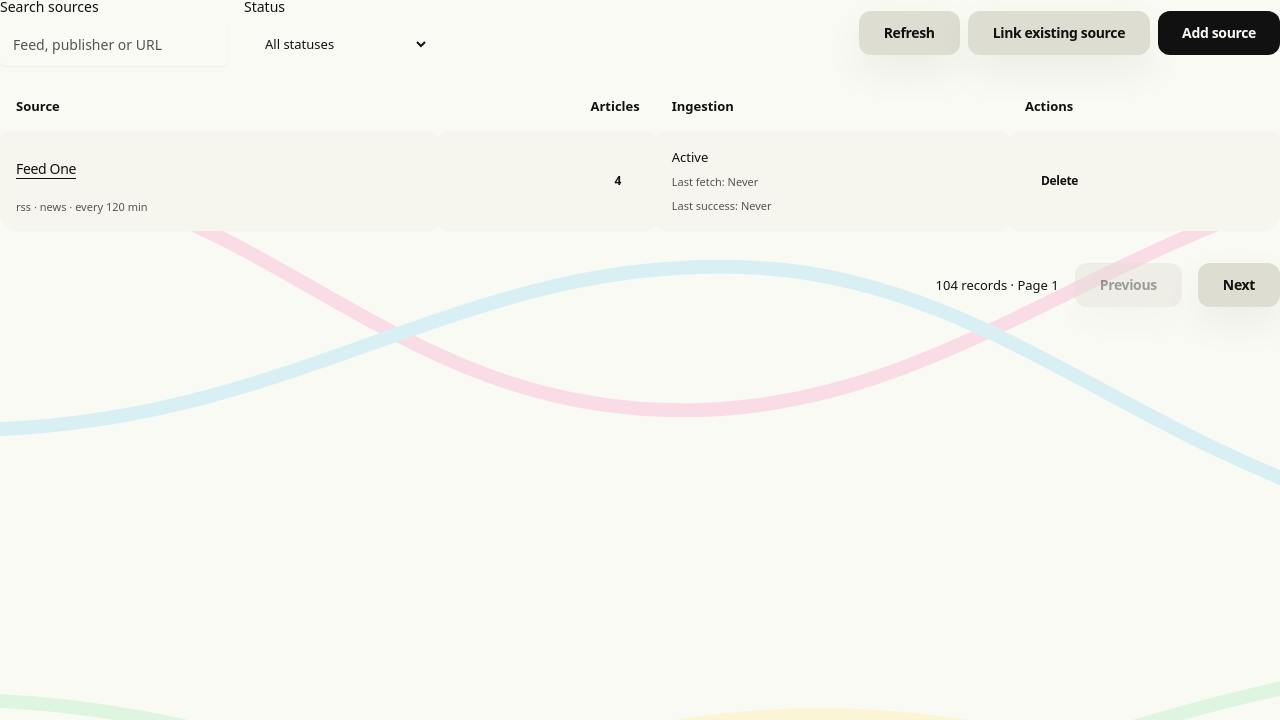
News source workspace › reviews moving an existing feed to the Organisation in context
Click the button "Link existing source" at (1059, 33), box x1=968 y1=11 x2=1150 y2=55
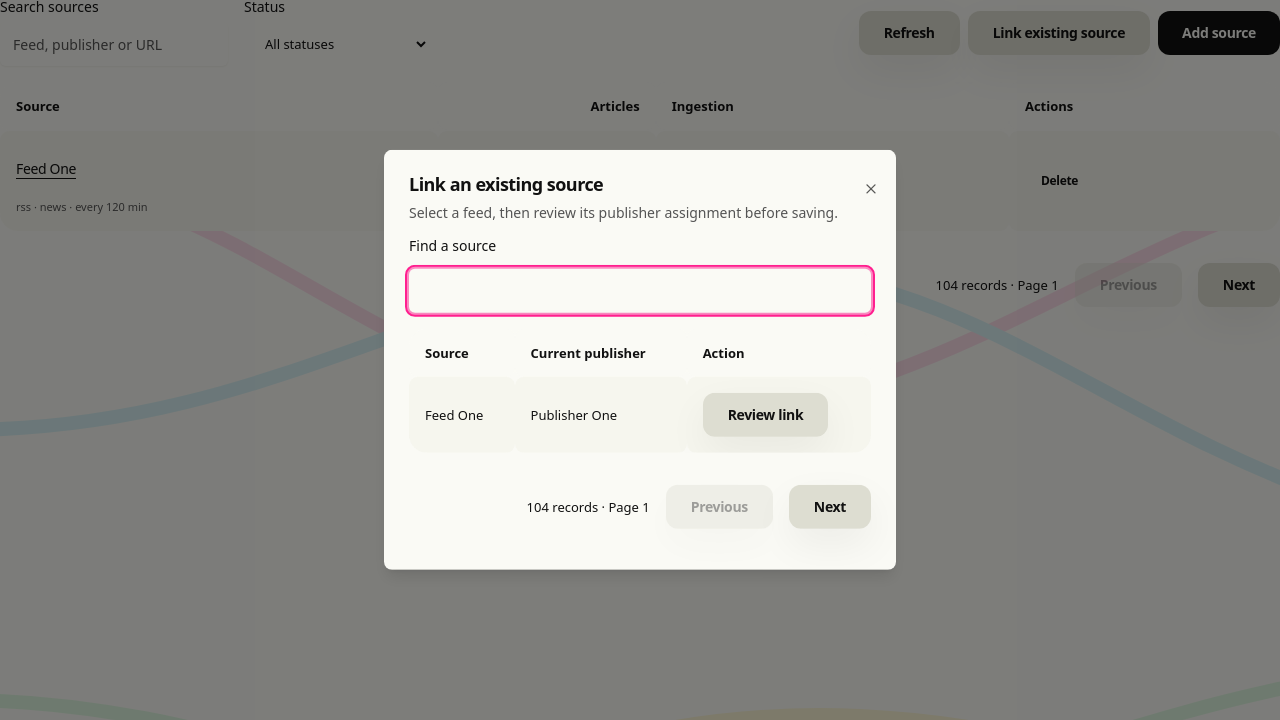
Click the button "Review link" at (765, 415), box x1=703 y1=393 x2=828 y2=437
(page scrolled)
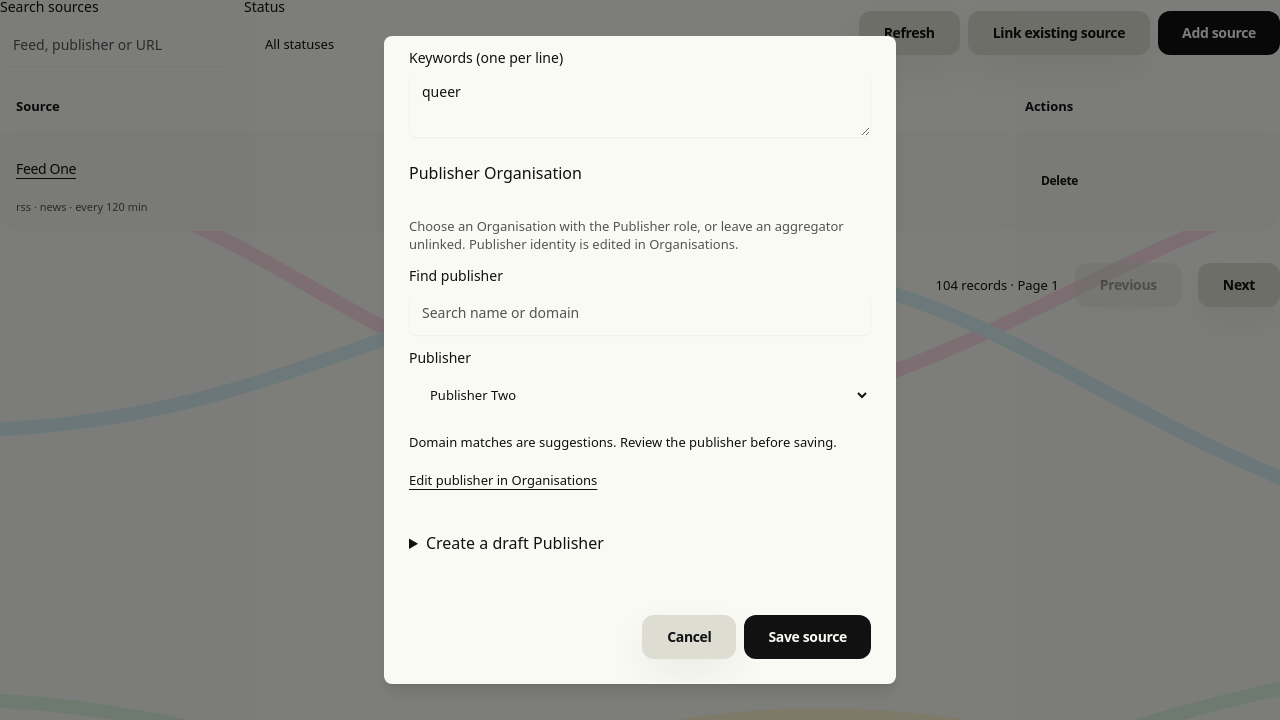
Check: the dropdown labelled "Publisher" shows "Publisher Two", box x1=409 y1=373 x2=871 y2=417
